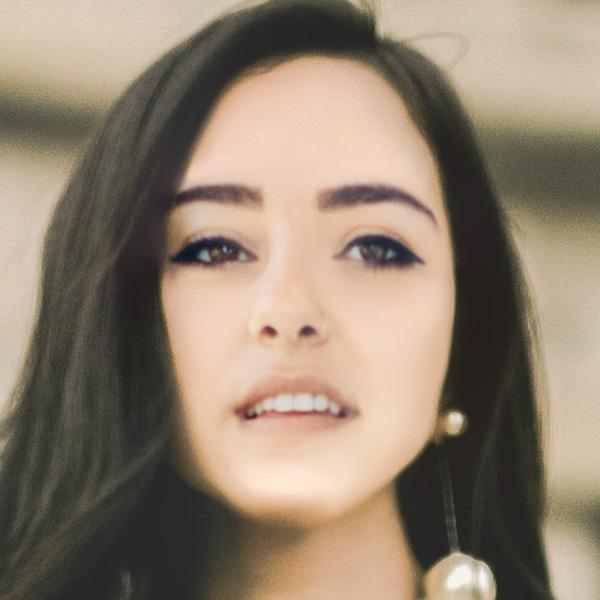Eyes: (316, 221, 431, 282), (165, 224, 262, 284)
